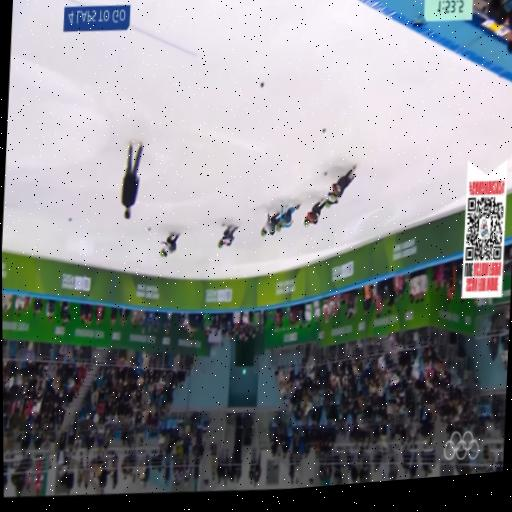Skater: (329, 165, 356, 201), (275, 204, 300, 231), (304, 198, 325, 225), (261, 212, 280, 235), (160, 233, 179, 256), (218, 225, 238, 246)
